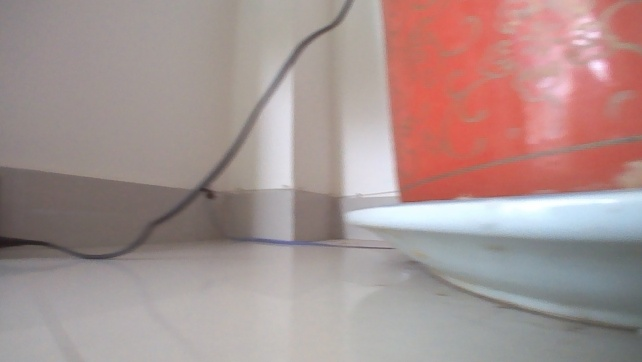wire: (0, 0, 354, 261)
